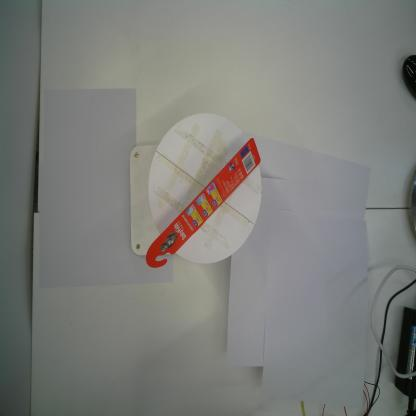Personal Hygiene: (146, 137, 262, 268)
